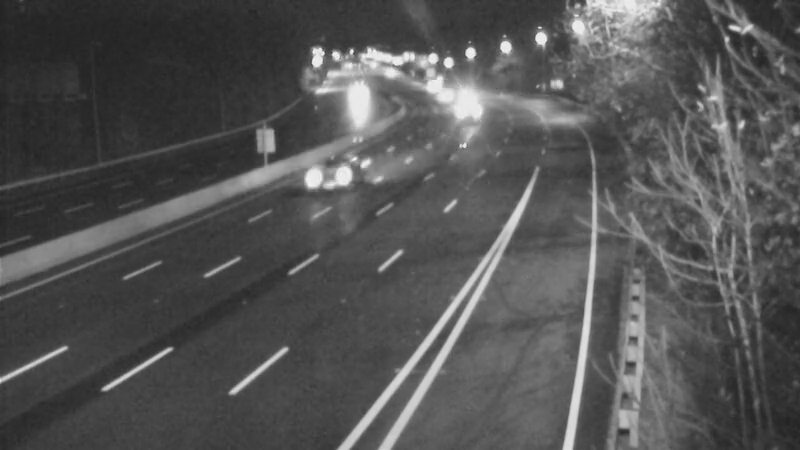vehicle: (292, 137, 372, 217), (366, 49, 416, 99), (408, 60, 458, 110), (425, 73, 475, 123), (444, 84, 494, 134), (331, 74, 381, 124)
